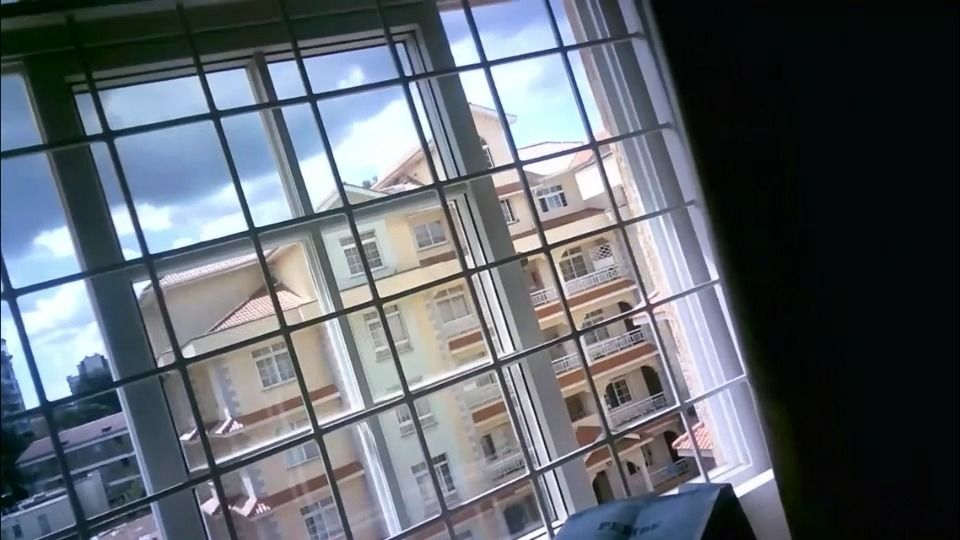wheat_flour_blue_label: (549, 485, 757, 540)
